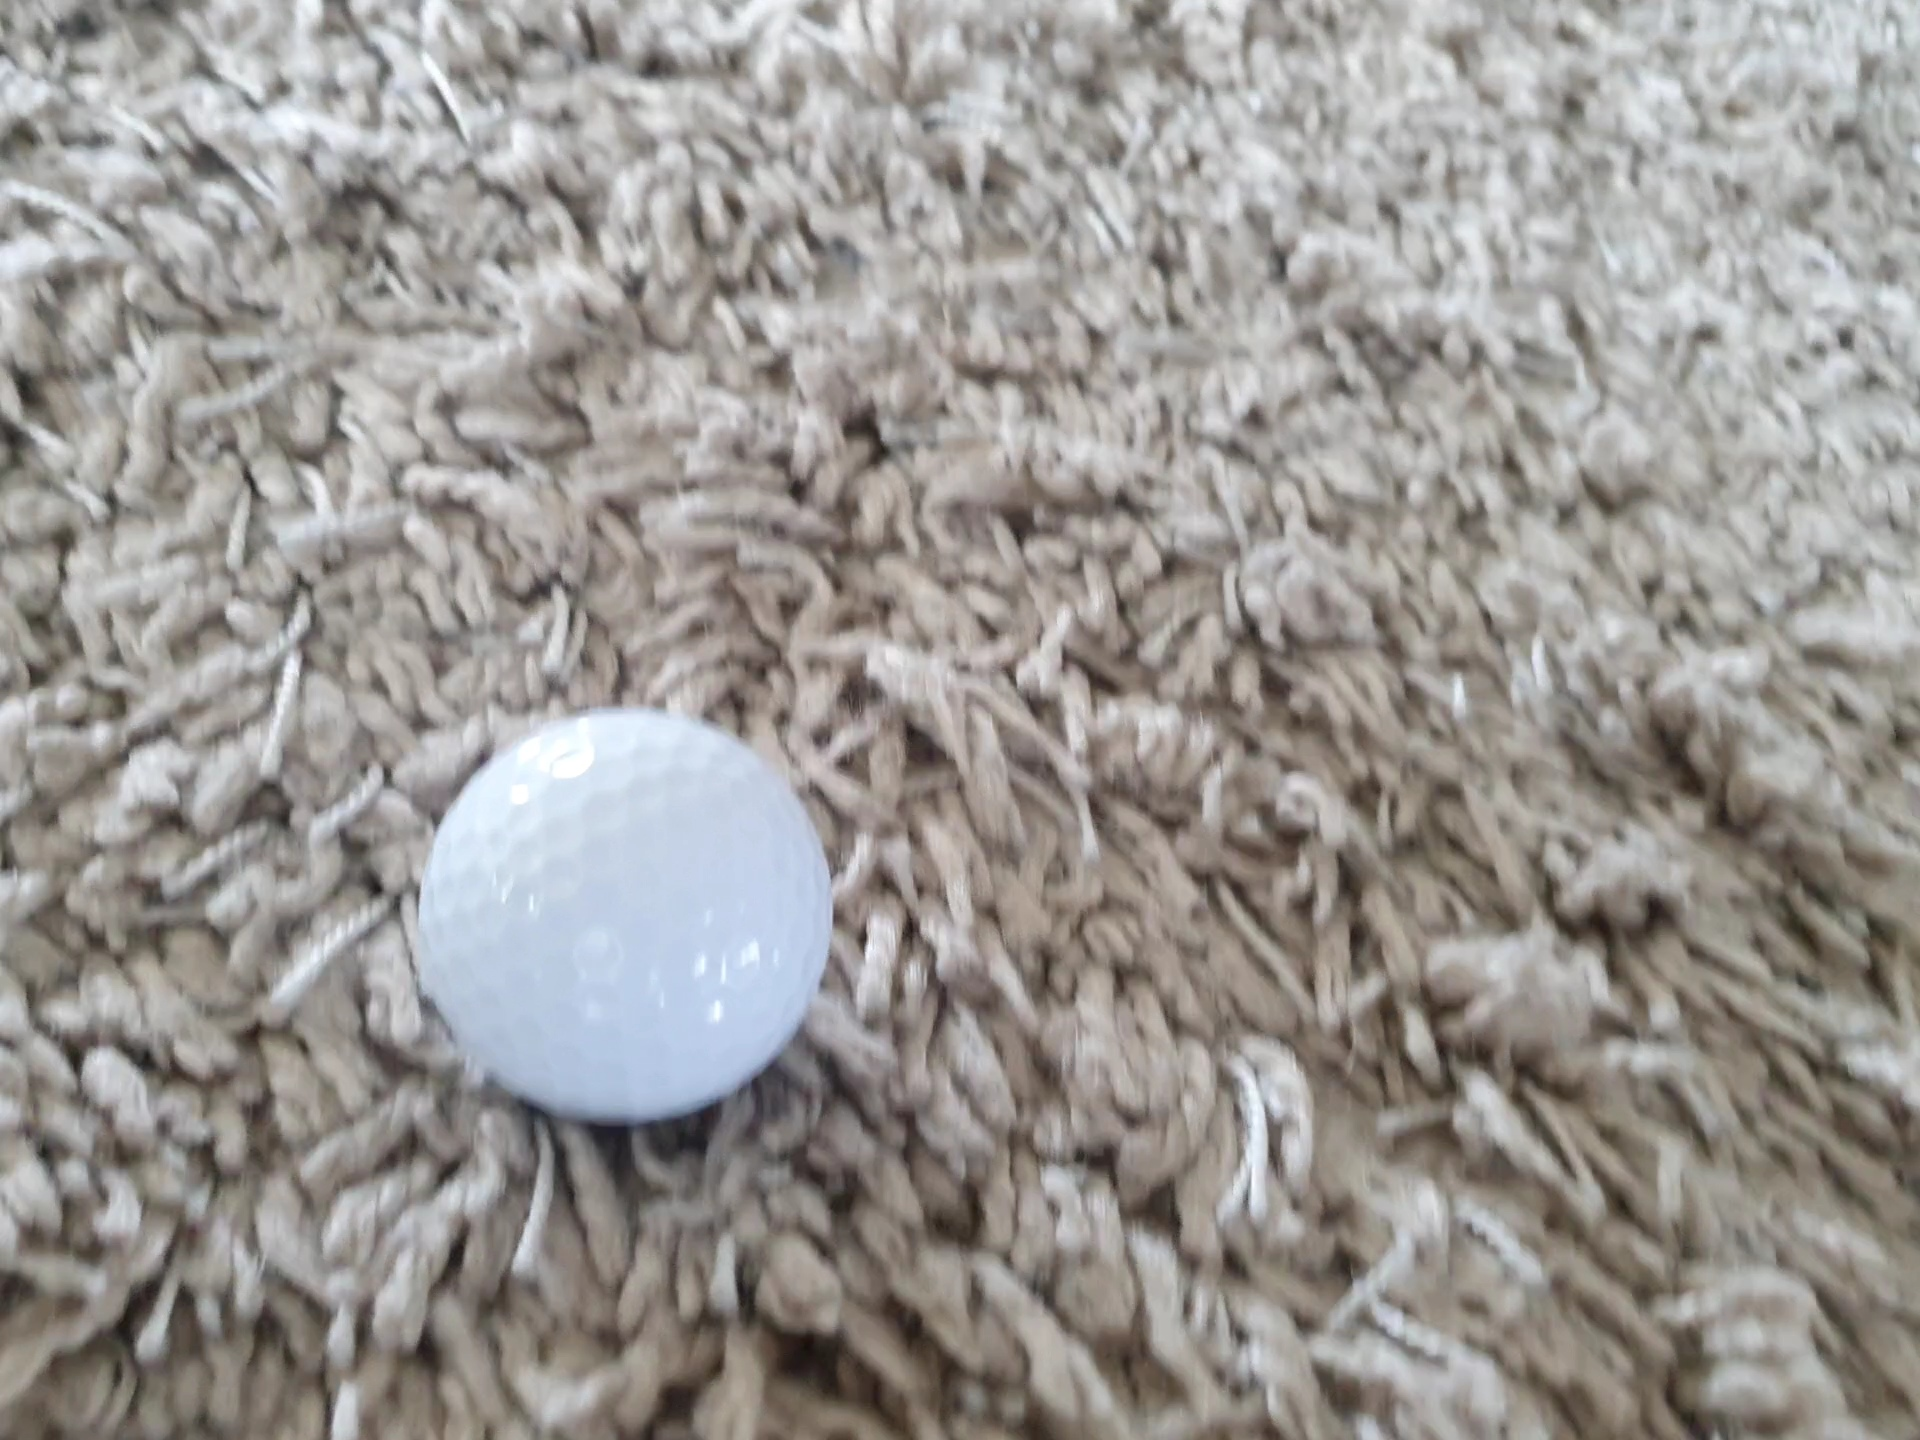golfball: (408, 700, 835, 1127)
